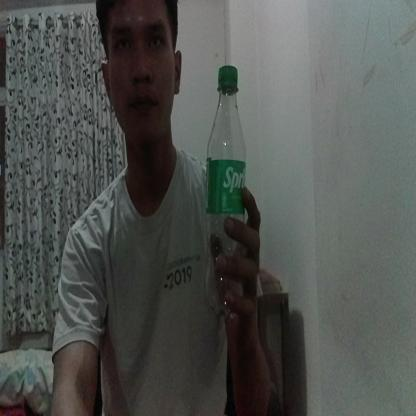plastic_bottles: (202, 63, 248, 324)
